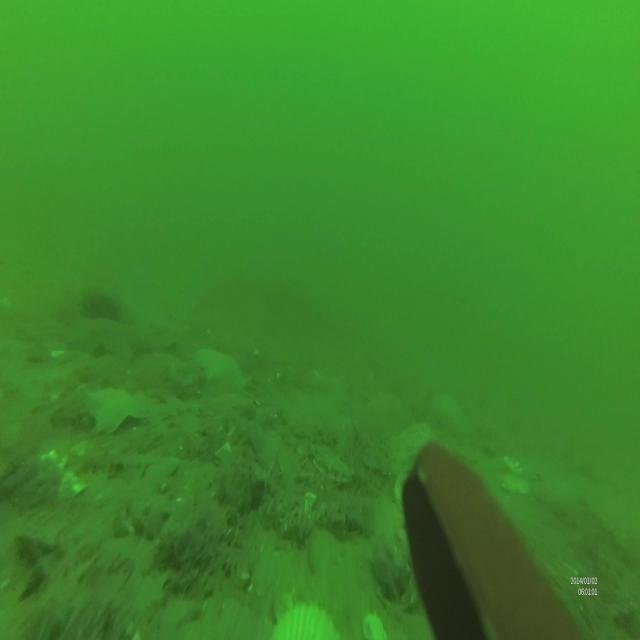scallop: (270, 601, 339, 640)
starfish: (72, 379, 150, 431)
